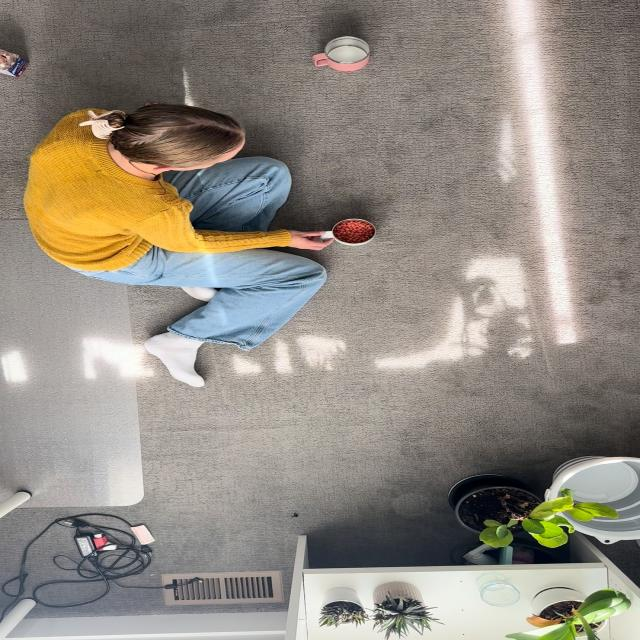IBC: (312, 36, 370, 72), (322, 218, 376, 245)
